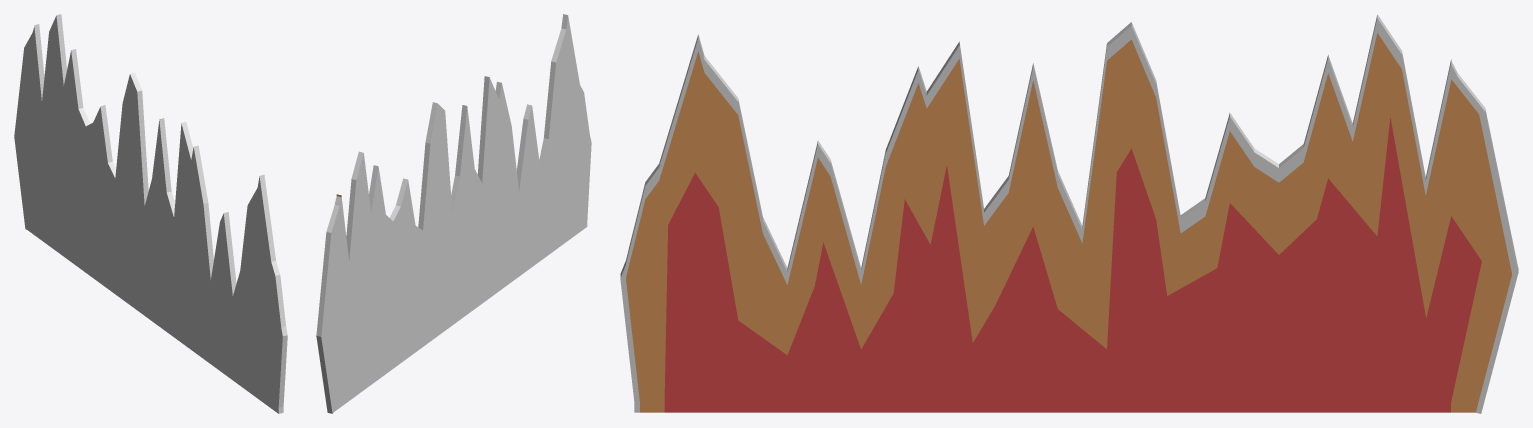
Rendered from Fire2.fbx.
The picture shows the model from 3 angles, left to right: view 1: azimuth 30°, elevation 25°; view 2: azimuth 150°, elevation 25°; view 3: azimuth 270°, elevation 25°; orthographic projection. The views are drawn at different scales.
Parts seen in each view (by area): view 1: Cube; view 2: Cube; view 3: Cube.
Part boxes in pixels (left/top/right/bottom): Cube: left=14, top=14, right=287, bottom=413; Cube: left=316, top=14, right=591, bottom=413; Cube: left=620, top=14, right=1518, bottom=413.
Bounding box in the file's own units: 6.08 × 278 × 572.
